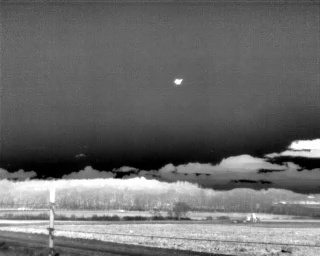DRONE: (171, 75, 186, 89)
